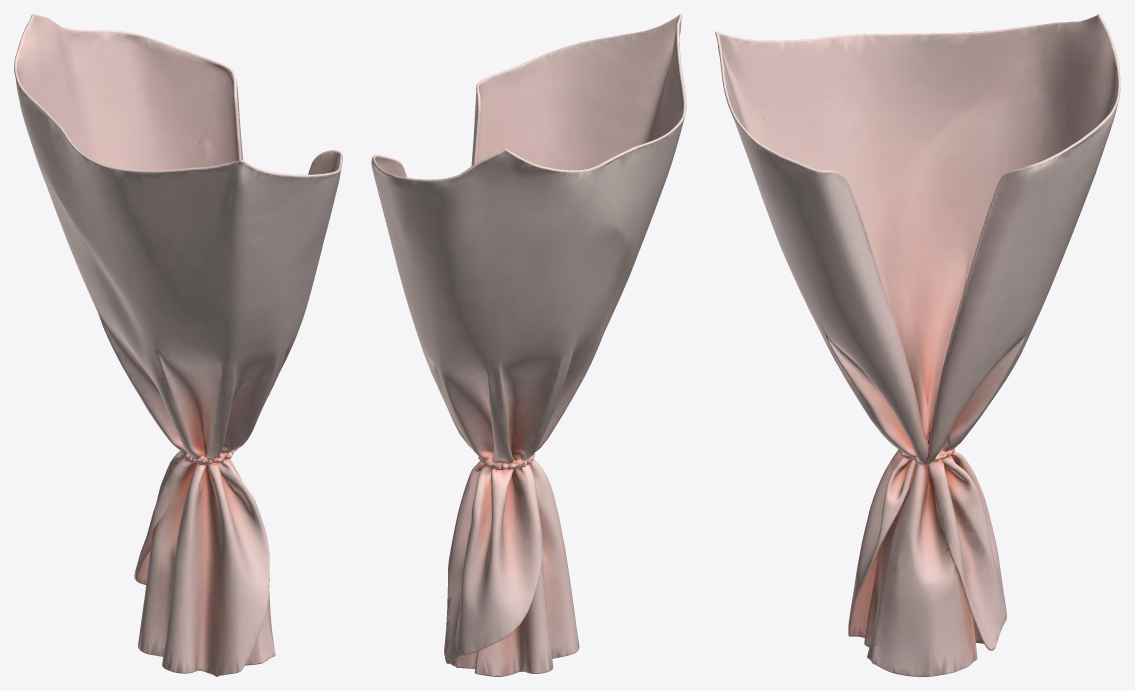
The model's file is pink fabric bow 3d model_opt.glb.
3 renders of one model, left to right at view 1: azimuth 30°, elevation 25°; view 2: azimuth 150°, elevation 25°; view 3: azimuth 270°, elevation 25°, orthographic.
Parts seen in each view (by area): view 1: tripo_node_c262ff9c-0e51-495f-b30b-2af49b2b997b; view 2: tripo_node_c262ff9c-0e51-495f-b30b-2af49b2b997b; view 3: tripo_node_c262ff9c-0e51-495f-b30b-2af49b2b997b.
Boxes of the visible parts, box(x1,y1,x2,y2) form: tripo_node_c262ff9c-0e51-495f-b30b-2af49b2b997b: box(14, 14, 342, 676); tripo_node_c262ff9c-0e51-495f-b30b-2af49b2b997b: box(371, 14, 686, 676); tripo_node_c262ff9c-0e51-495f-b30b-2af49b2b997b: box(715, 14, 1120, 676).
Bounding box in the file's own units: 0.3956 × 1 × 0.6181.
1 material, 1 textured.
